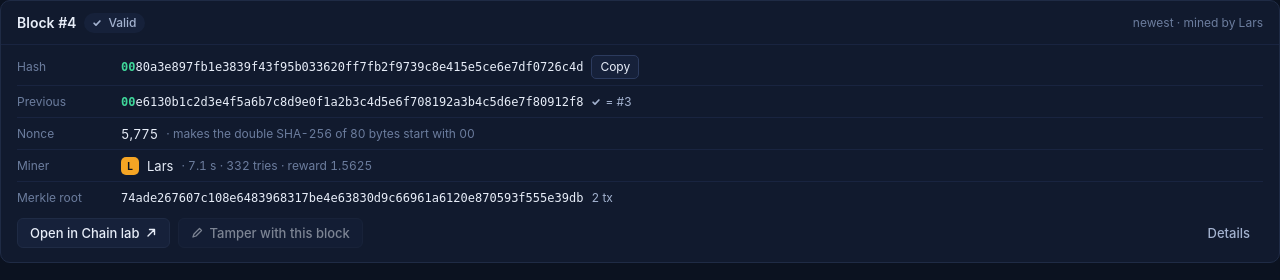
it: SelectedBlockCard › reports the full hash copied only after the clipboard confirms success
Click the button with aria-label "Copy hash" at (615, 67), box [591, 55, 639, 79]
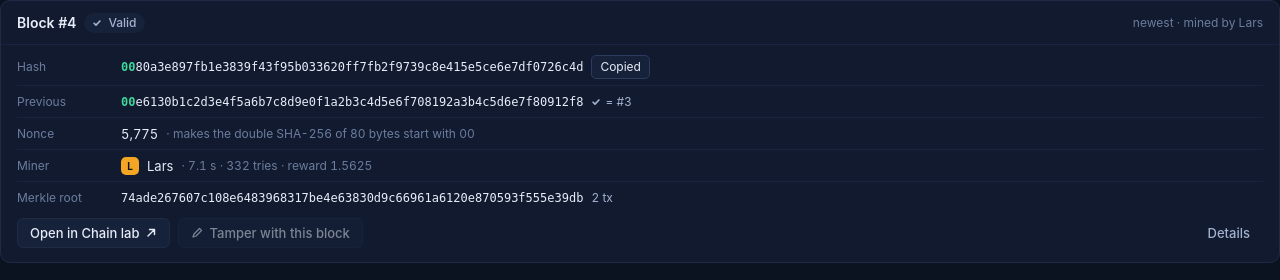
expect the button with aria-label "hash copied" reads "Copied": met, box [591, 55, 650, 79]
